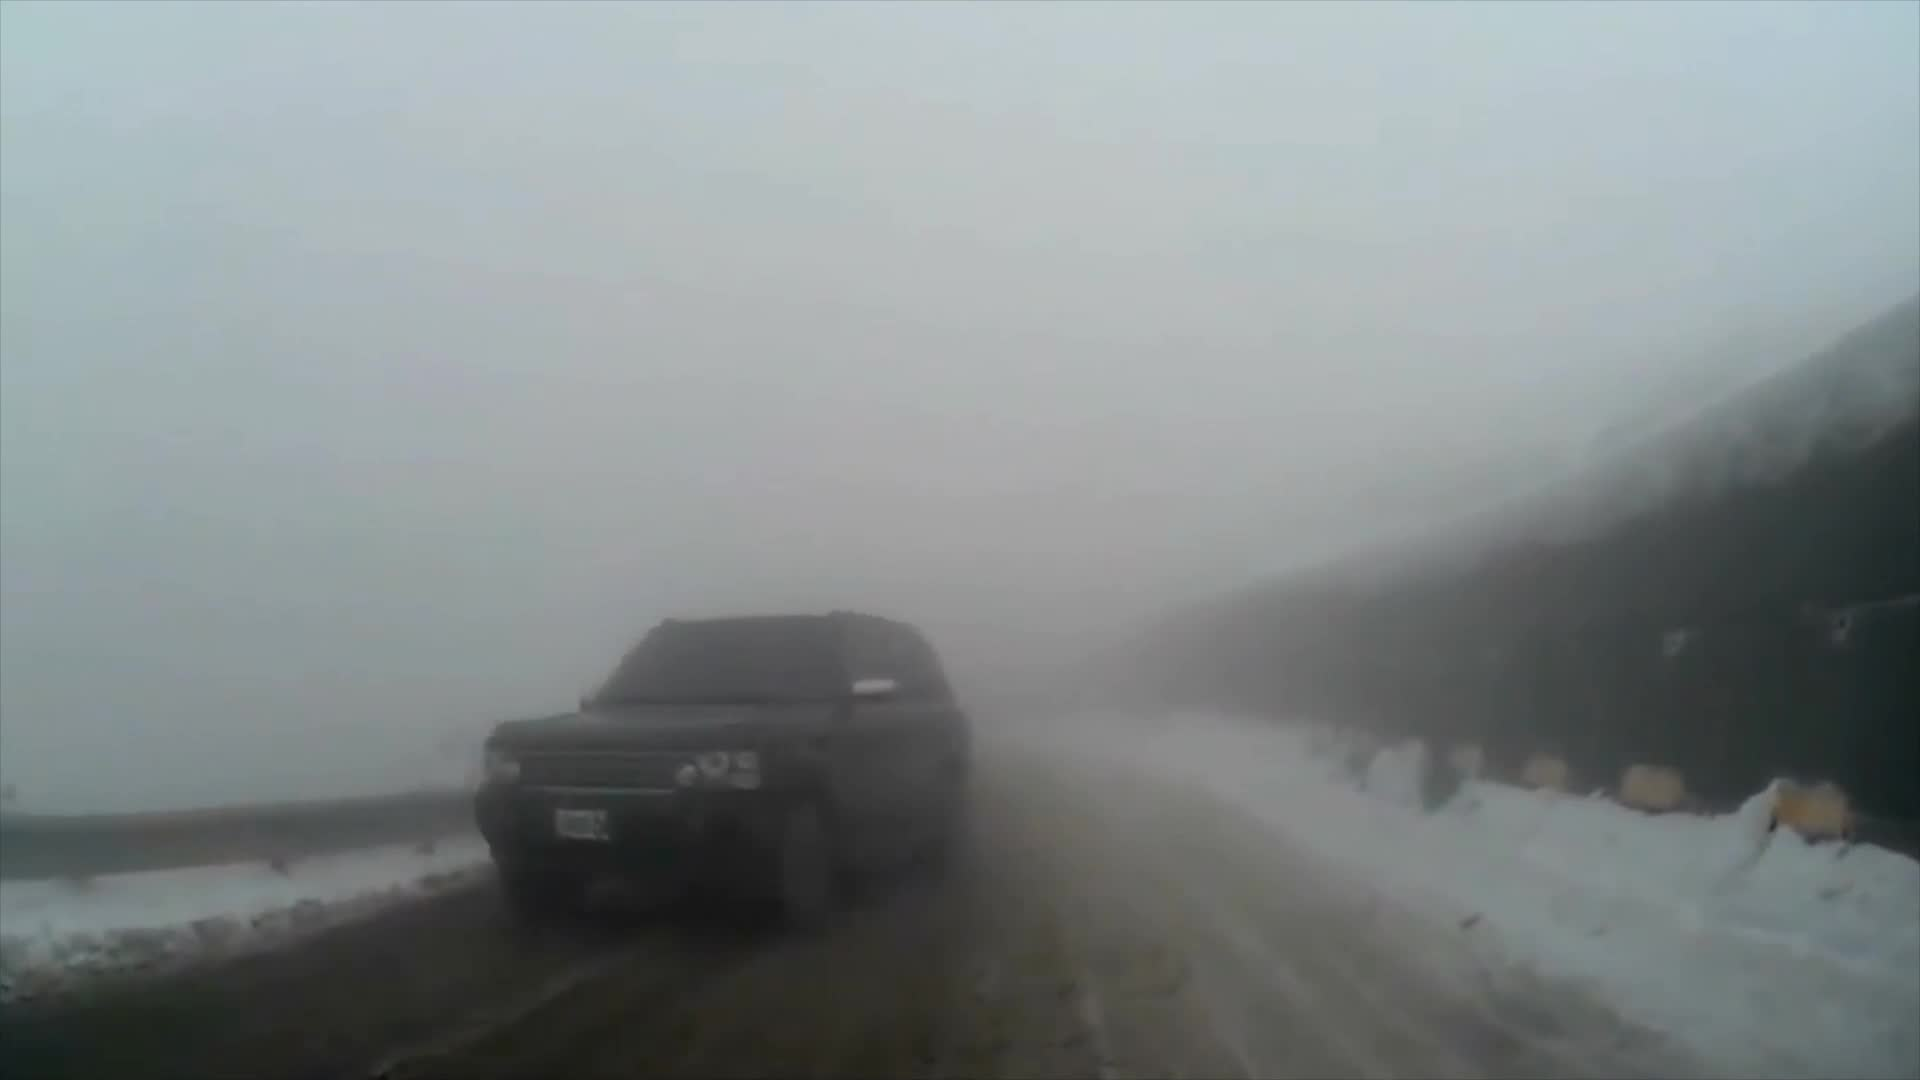vehicle: (471, 607, 992, 942)
